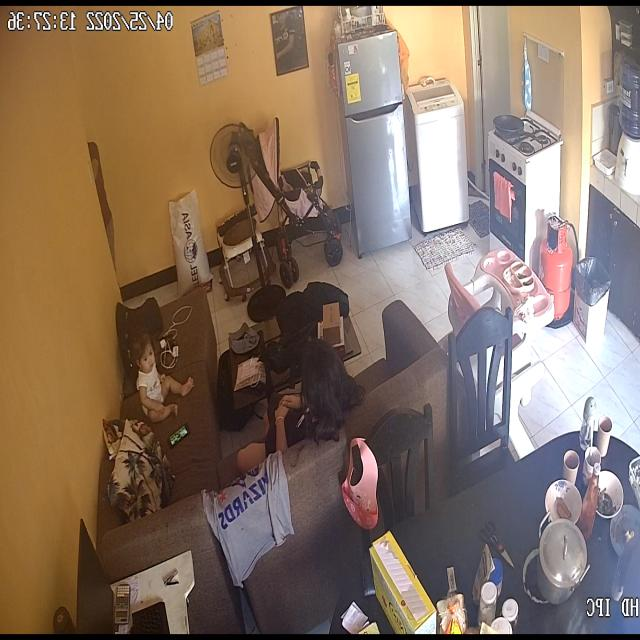adult: (229, 333, 362, 476)
child: (124, 332, 194, 430)
